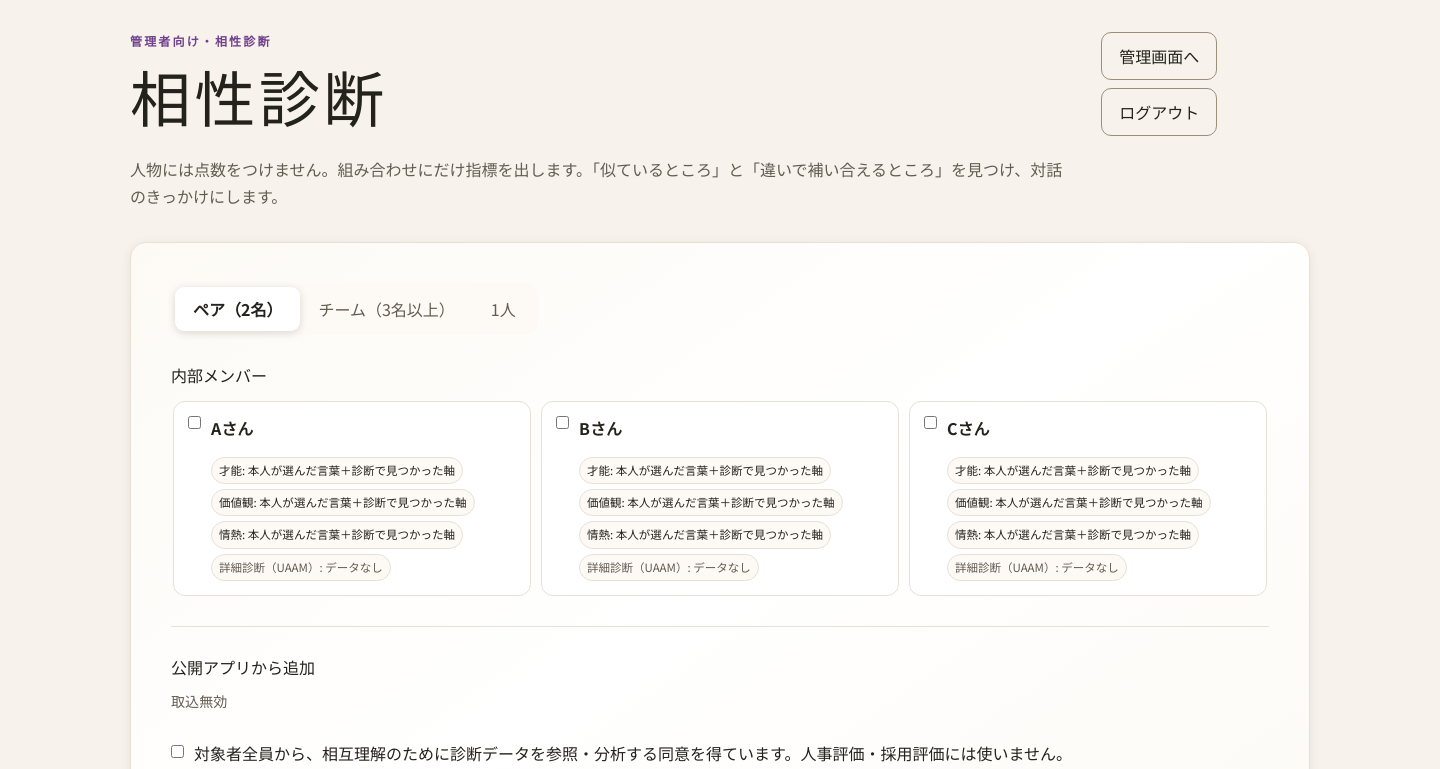
Test: CompatScreen › discards an analysis response after the selected members have changed
Expected: the text "Aさん" is shown, [211,416,253,440]
Click the 1st checkbox.
click(194, 422)  # box [188,416,201,429]
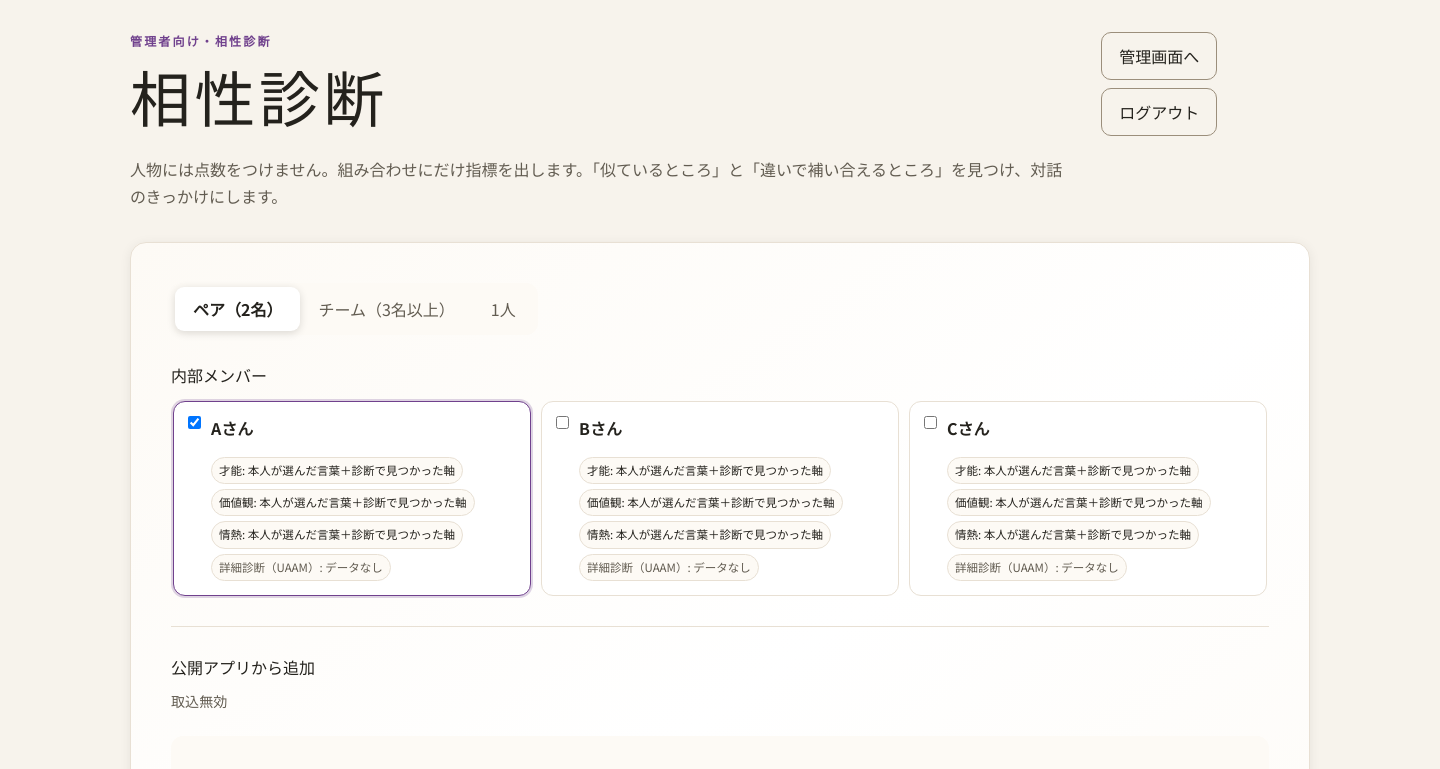
Click the 2nd checkbox.
click(562, 422)  # box [556,416,569,429]
(page scrolled)
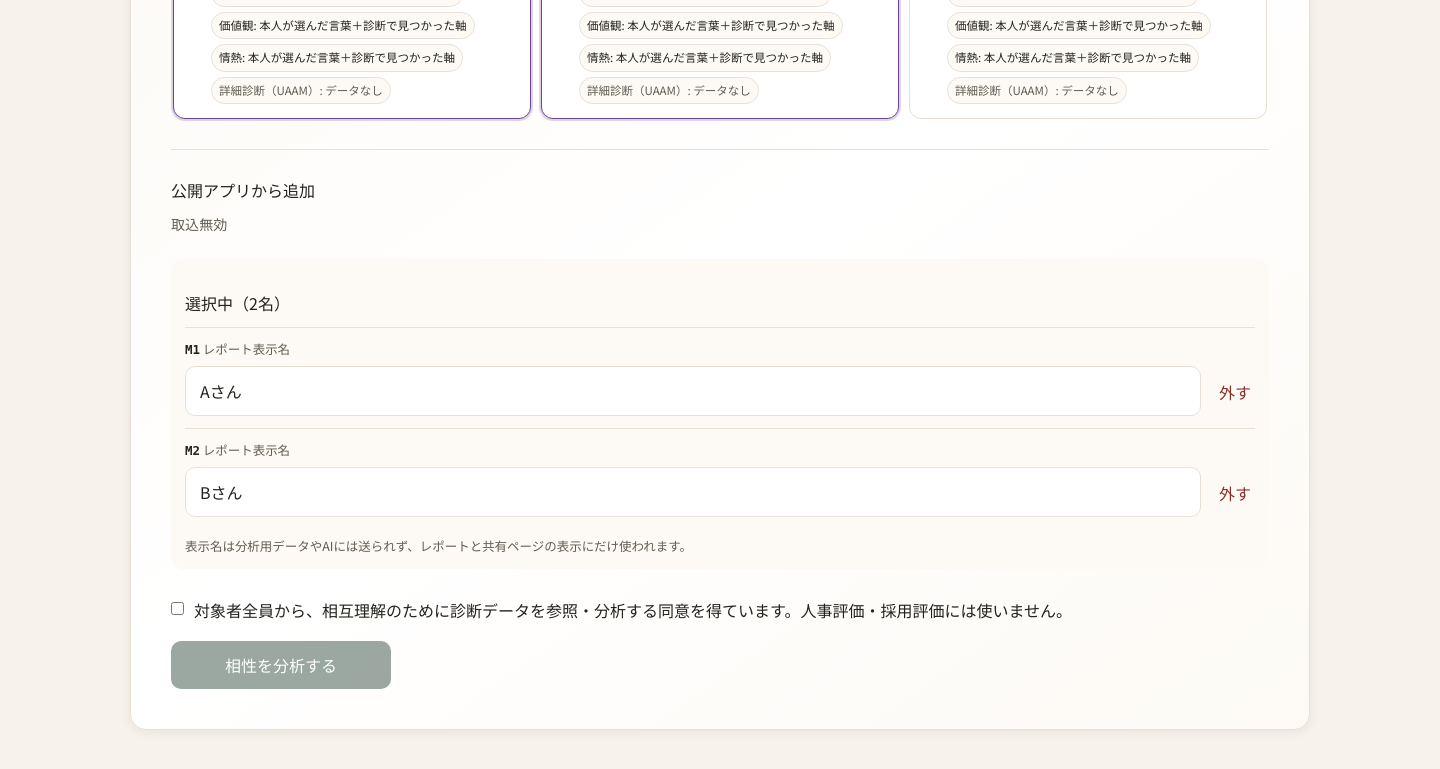
Click the checkbox.
click(178, 608)  # box [171,602,184,614]
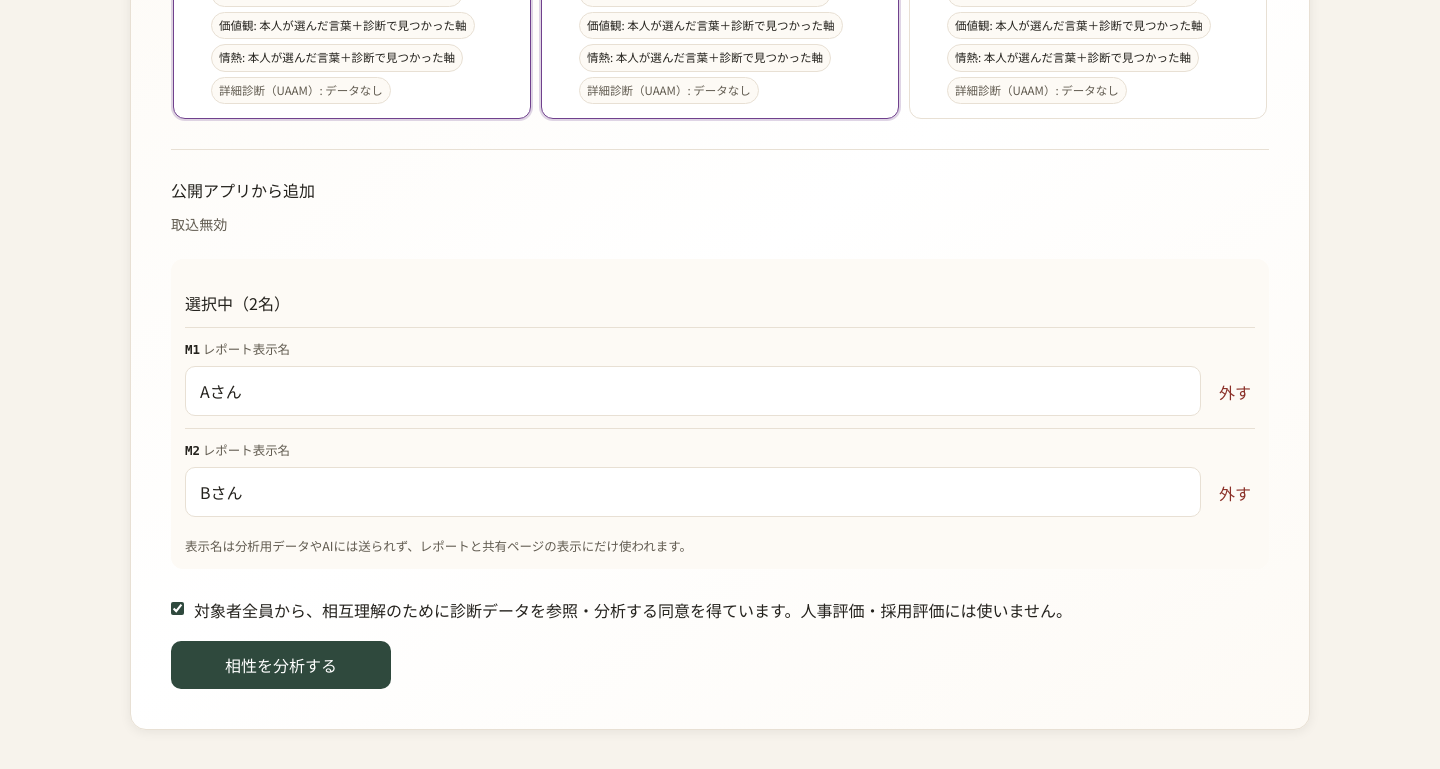
Click the button "相性を分析する".
click(281, 665)  # box [171,641,391,689]
(page scrolled)
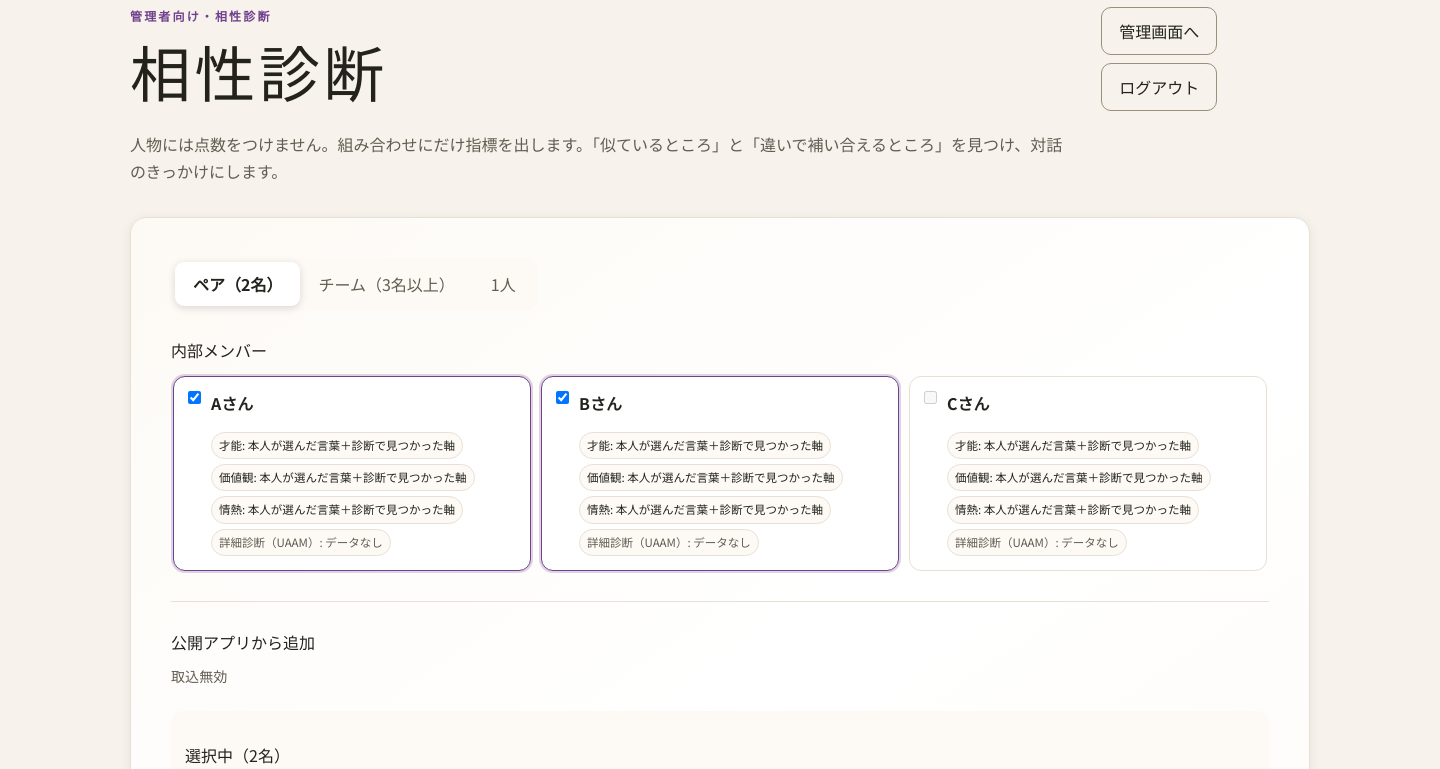
Click the 2nd checkbox.
click(562, 398)  # box [556,391,569,404]
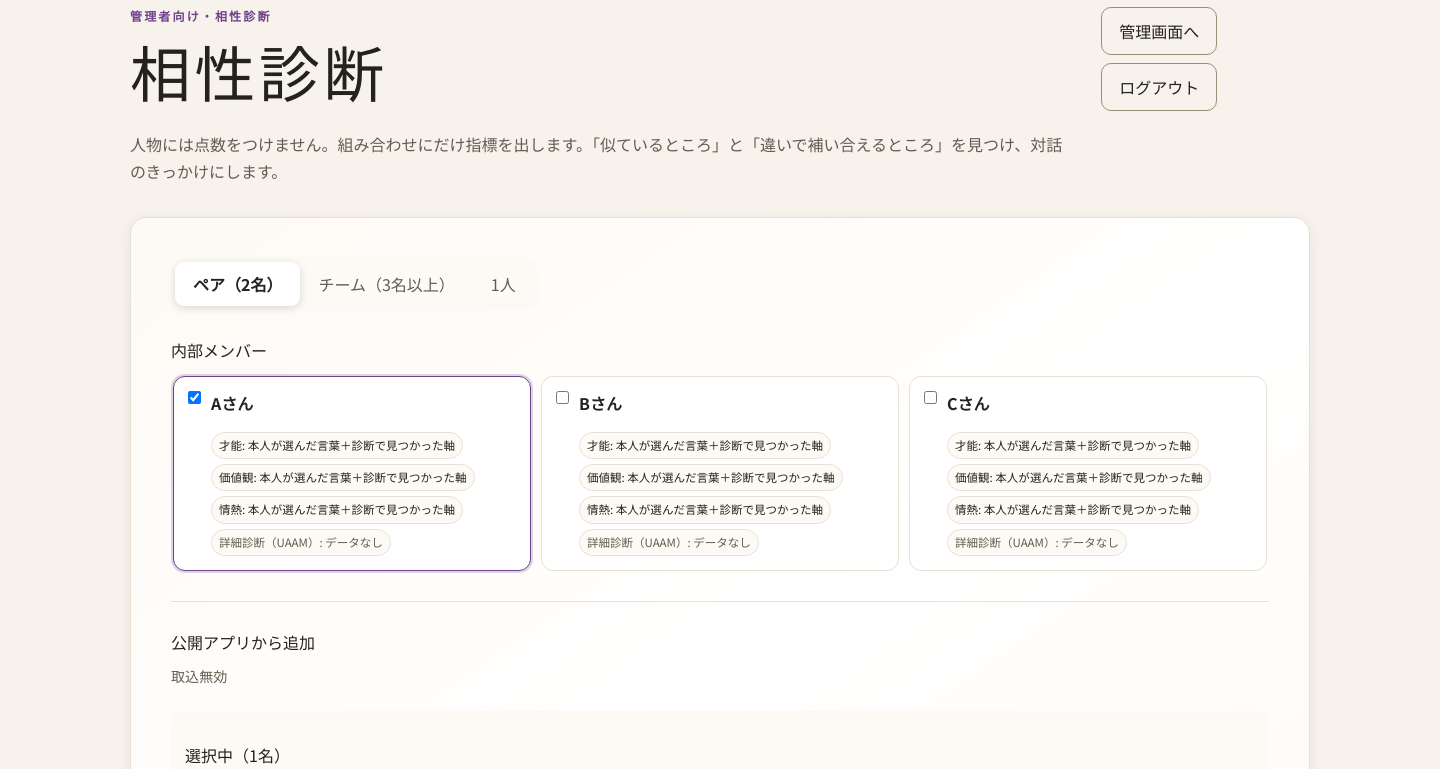
Click the 3rd checkbox.
click(930, 398)  # box [924,391,937,404]
(page scrolled)
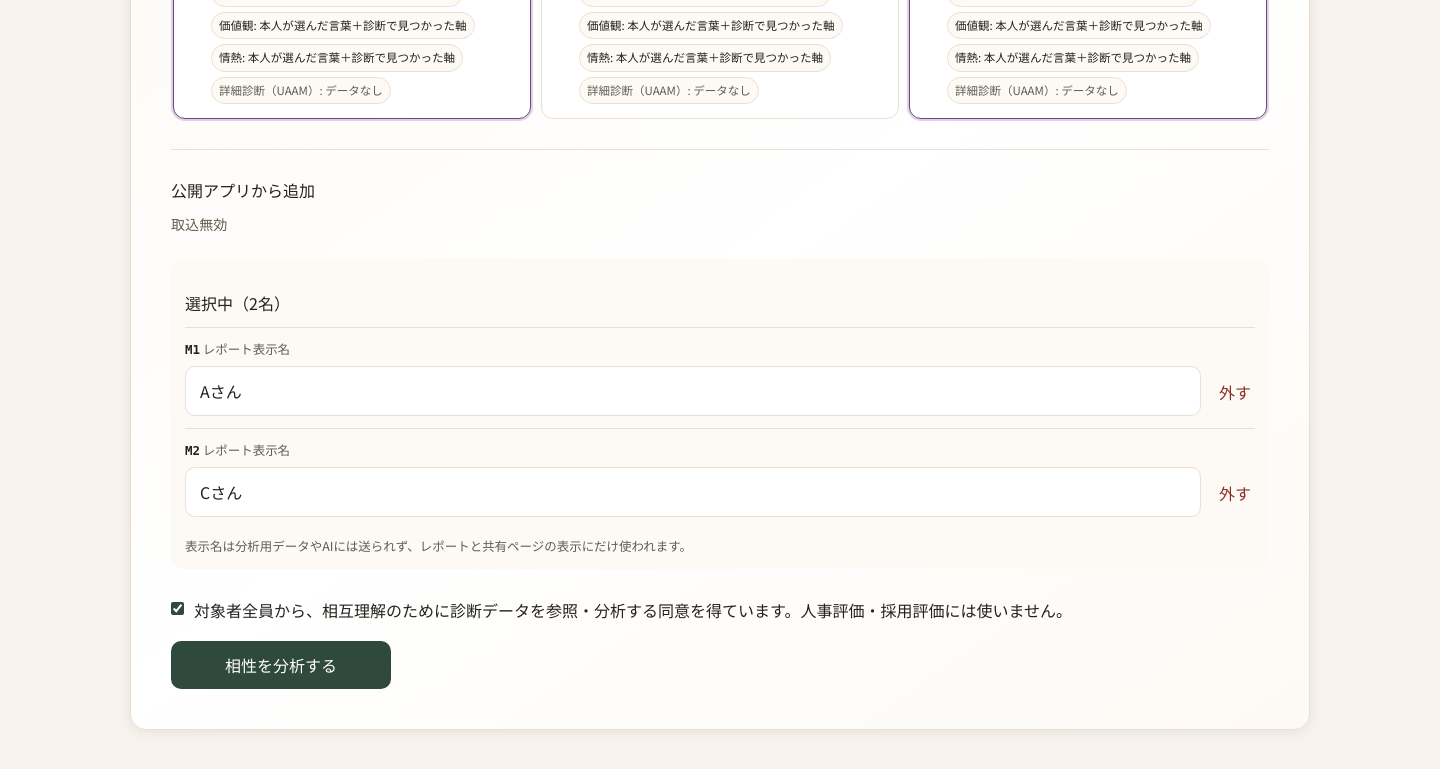
Expected: the button "相性を分析する" is enabled, [171,641,391,689]
